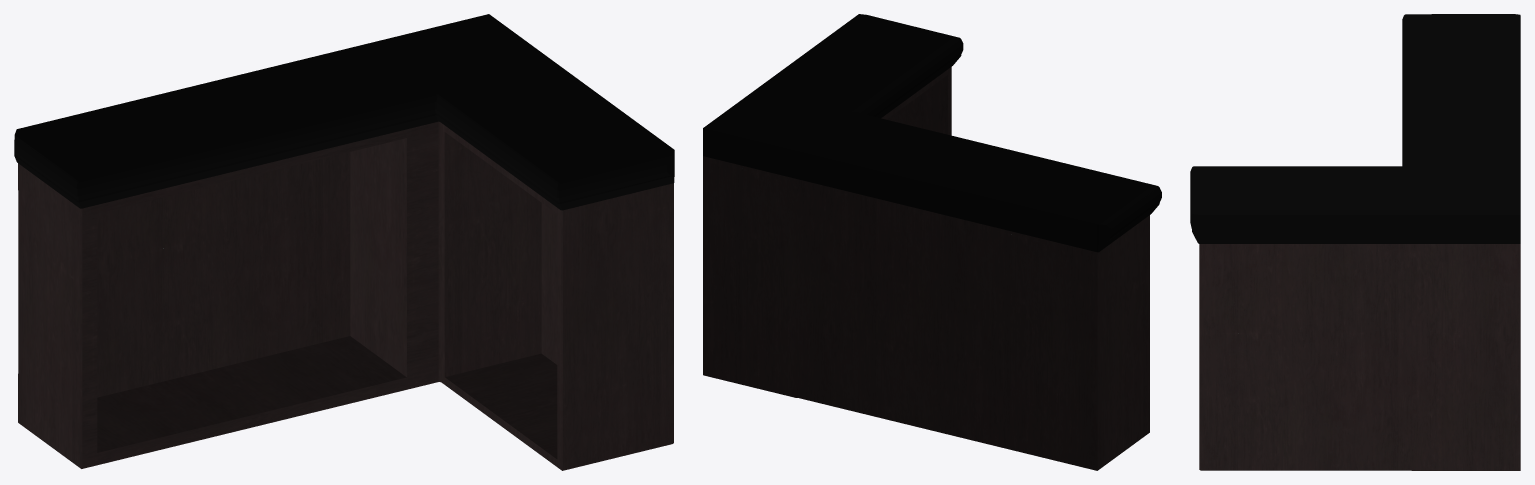
Rendered from StandardUpperCabinetHeightWidth_de7d939c.obj.
The picture shows the model from 3 angles, left to right: view 1: azimuth 30°, elevation 25°; view 2: azimuth 150°, elevation 25°; view 3: azimuth 270°, elevation 25°; orthographic projection. The views are drawn at different scales.
Visible parts, largest first — view 1: StandardUpperCabinetHeightWidth_de7d939c; view 2: StandardUpperCabinetHeightWidth_de7d939c; view 3: StandardUpperCabinetHeightWidth_de7d939c.
Part boxes in pixels (box(x1,y1,x2,y2)): StandardUpperCabinetHeightWidth_de7d939c: box(14, 14, 674, 470); StandardUpperCabinetHeightWidth_de7d939c: box(703, 14, 1161, 470); StandardUpperCabinetHeightWidth_de7d939c: box(1190, 14, 1520, 470).
Size of the model in its own units: 1.5 by 0.8815 by 1.03.
